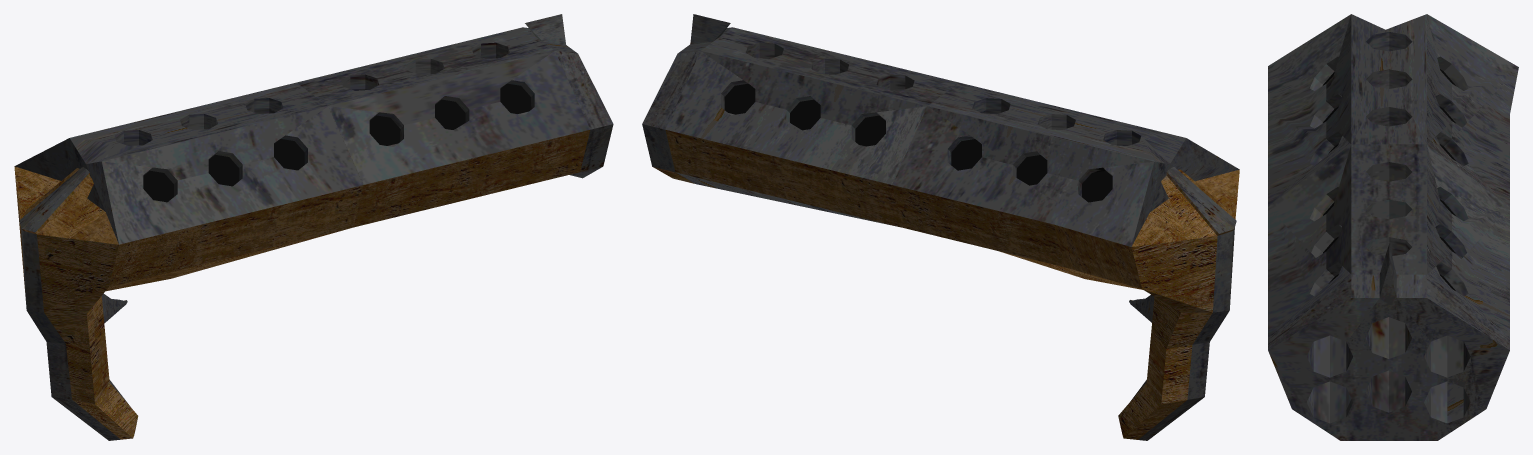
File: shotgun.fbx
3 views of the same model, side by side, from view 1: azimuth 30°, elevation 25°; view 2: azimuth 150°, elevation 25°; view 3: azimuth 270°, elevation 25° (orthographic). The views are drawn at different scales.
Parts seen in each view (by area): view 1: Gun; view 2: Gun; view 3: Gun.
Part boxes in pixels (x1=…): Gun: x1=14, y1=14, x2=613, y2=440; Gun: x1=642, y1=14, x2=1239, y2=440; Gun: x1=1268, y1=14, x2=1518, y2=440.
Size of the model in its own units: 79.87 by 44.65 by 27.26.
1 material, 1 textured.
